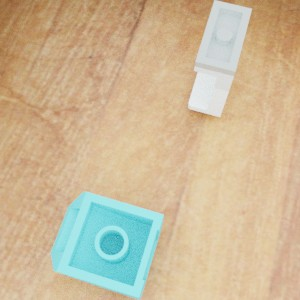lego: (50, 191, 163, 300), (187, 0, 252, 117)
